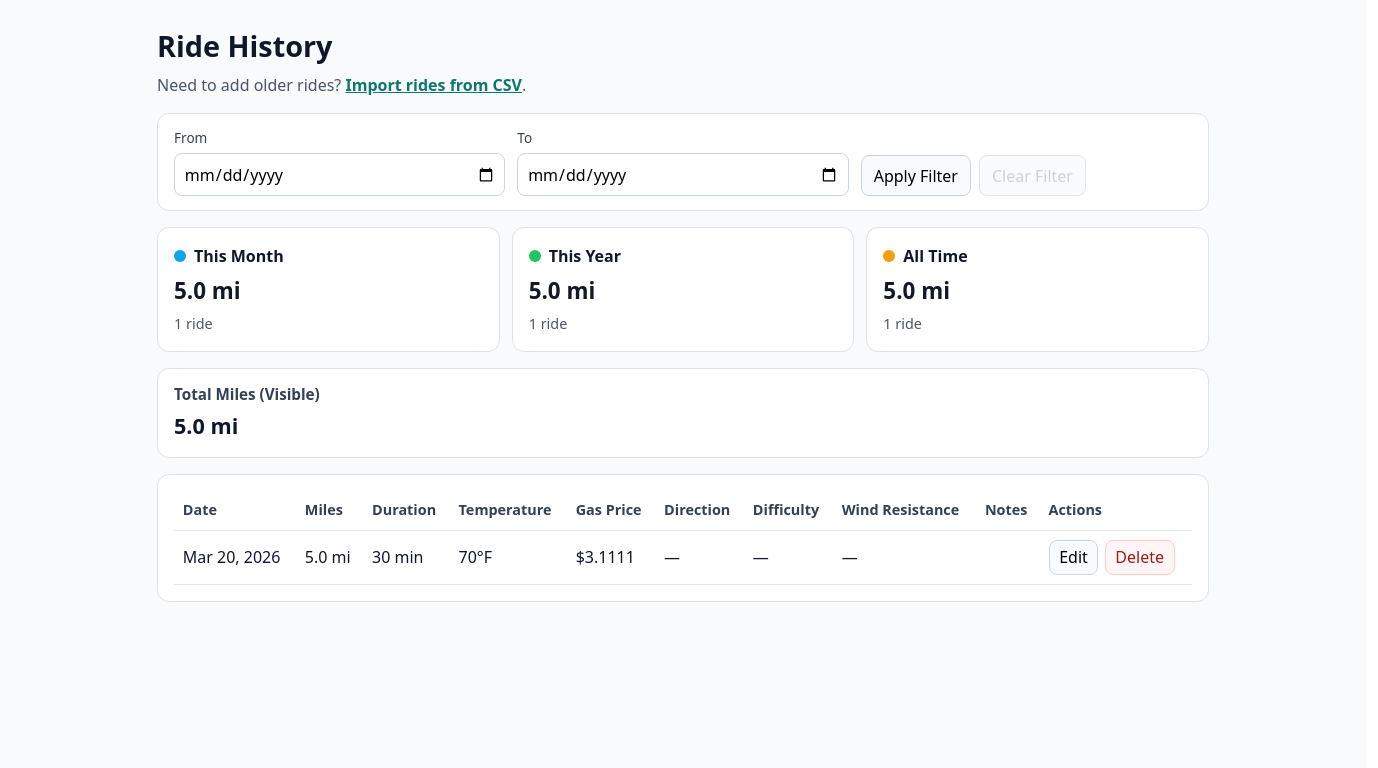
Test case: HistoryPage › should block save and show validation message for invalid gas price
Click the button "Edit": [1073, 557] box [1048,540,1098,575]
(page scrolled)
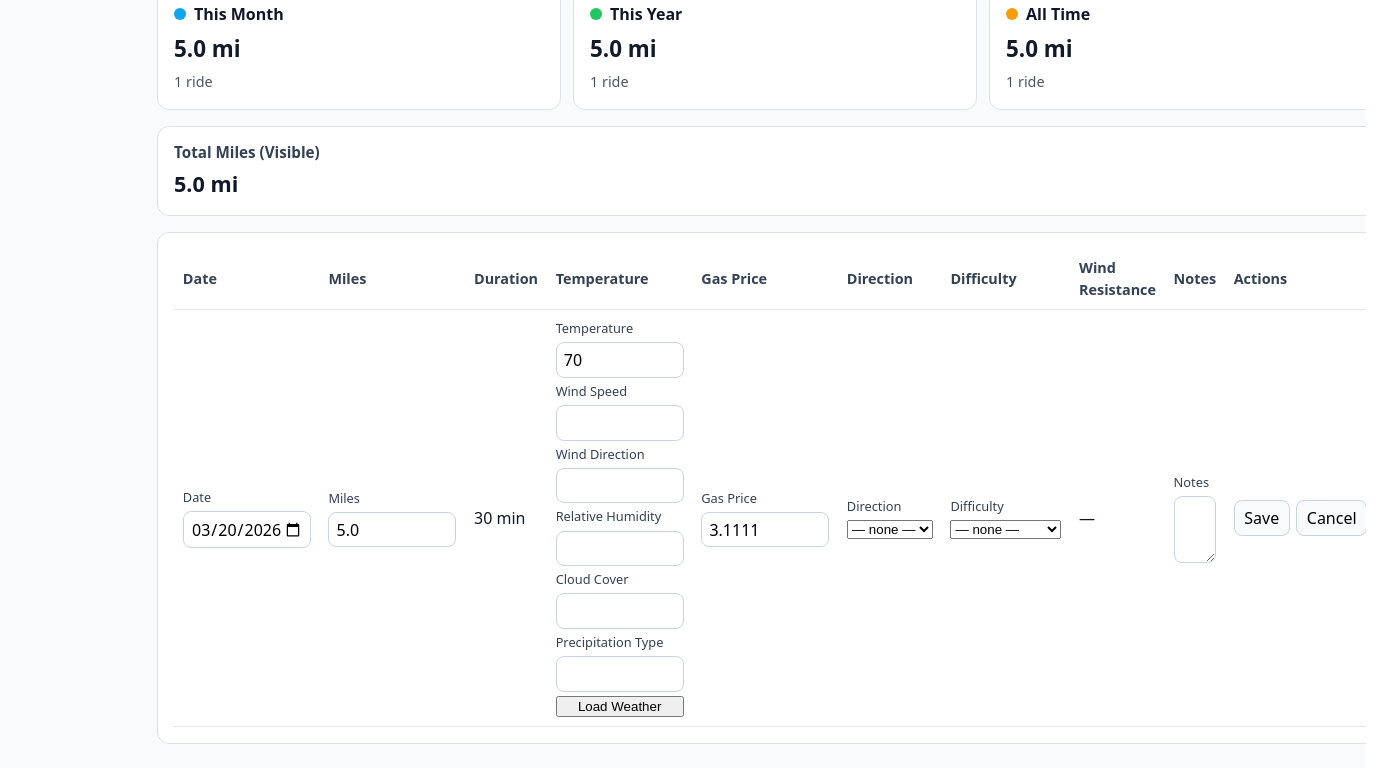
Replace the text in the number field labelled "Gas Price" with "-1": [765, 530] box [701,512,829,547]
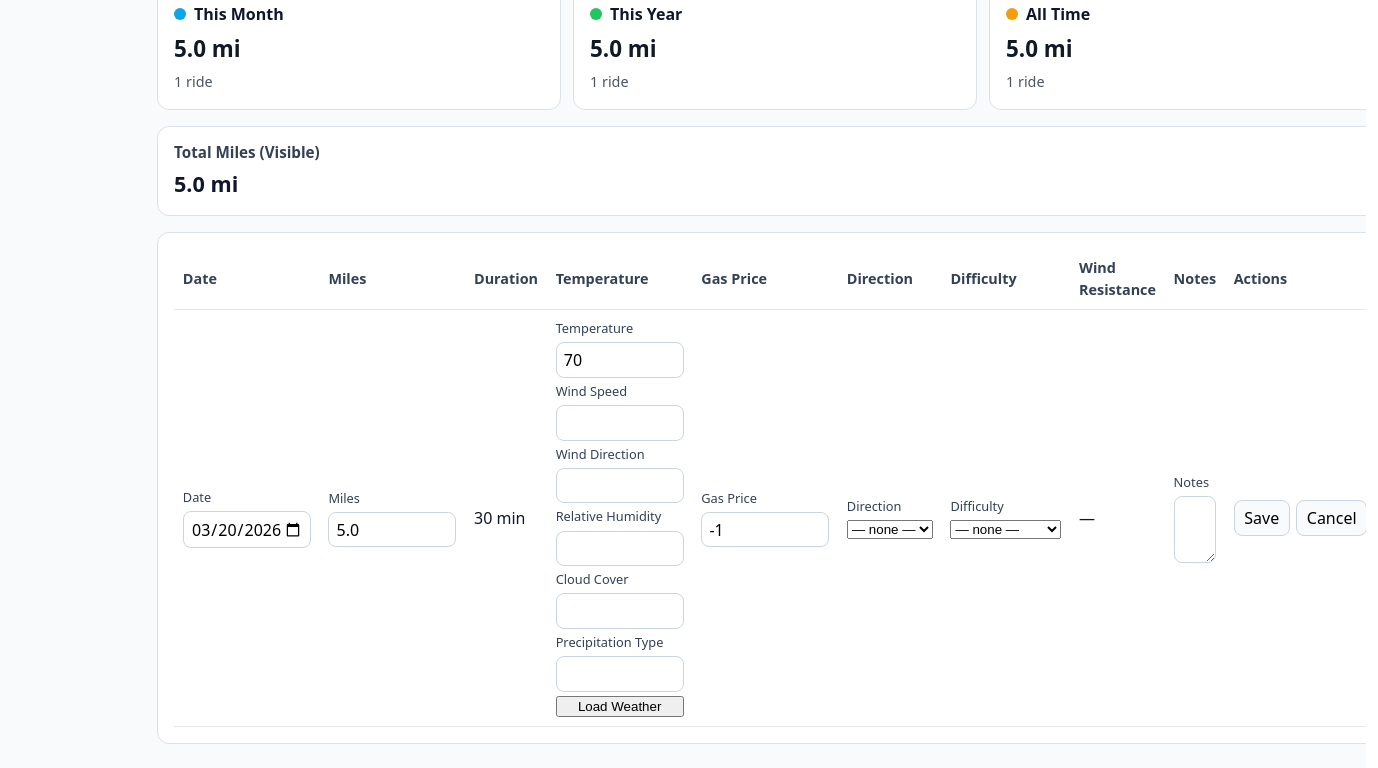
Click the button "Save": [1262, 518] box [1234,500,1290,536]
(page scrolled)
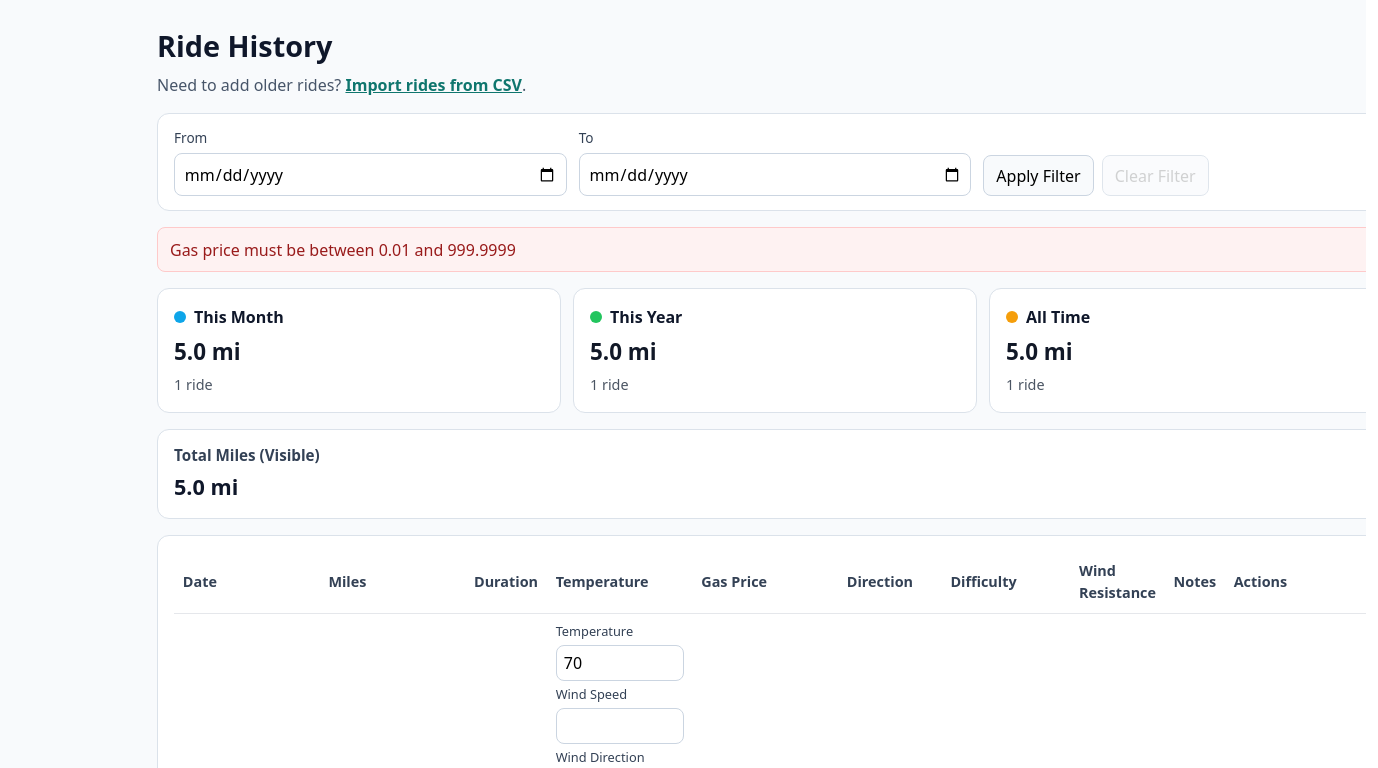
Now the message reads "Gas price must be between 0.01 and 999.9999", box [170,239,516,261]
